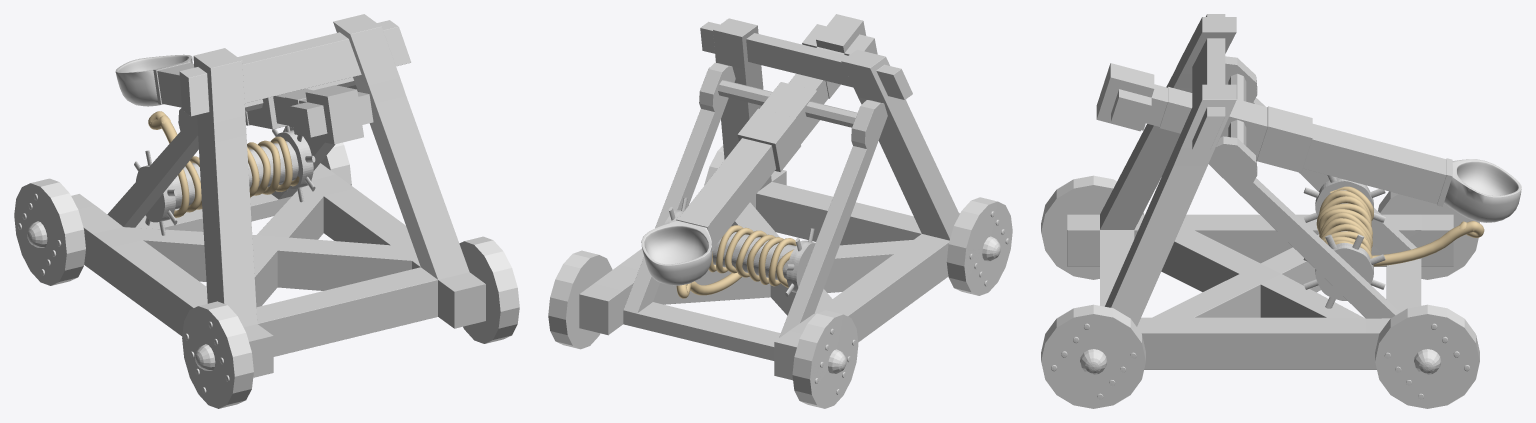
File: Catapult.fbx
3 renders of one model, left to right at view 1: azimuth 30°, elevation 25°; view 2: azimuth 150°, elevation 25°; view 3: azimuth 270°, elevation 25°, orthographic. The views are drawn at different scales.
Visible parts, largest first — view 1: Base, WheelsDetails, Support, Rotator, RopeLP, Container, Rope2LP; view 2: Base, WheelsDetails, Support, Container, RopeLP, Rotator, TopSupport, Rope2LP; view 3: Base, WheelsDetails, Support, Container, Rotator, RopeLP, Rope2LP, TopSupport.
Part boxes in pixels (x1,y1,x2,y2): Base: [71, 14, 485, 377]; WheelsDetails: [14, 127, 519, 408]; Support: [153, 61, 373, 144]; Rotator: [134, 125, 315, 235]; RopeLP: [173, 136, 299, 217]; Container: [115, 54, 192, 106]; Rope2LP: [148, 111, 177, 143]; Base: [579, 18, 960, 380]; WheelsDetails: [548, 145, 1012, 408]; Support: [676, 14, 877, 251]; Container: [641, 220, 712, 285]; RopeLP: [708, 225, 796, 287]; Rotator: [664, 197, 815, 296]; TopSupport: [718, 80, 857, 127]; Rope2LP: [676, 272, 741, 298]; Base: [1067, 14, 1453, 369]; WheelsDetails: [1041, 175, 1479, 408]; Support: [1096, 63, 1452, 206]; Container: [1444, 159, 1521, 222]; Rotator: [1303, 175, 1385, 308]; RopeLP: [1316, 186, 1373, 258]; Rope2LP: [1372, 221, 1484, 266]; TopSupport: [1228, 73, 1246, 145].
Bounding box in the file's own units: 447 × 392 × 607.
